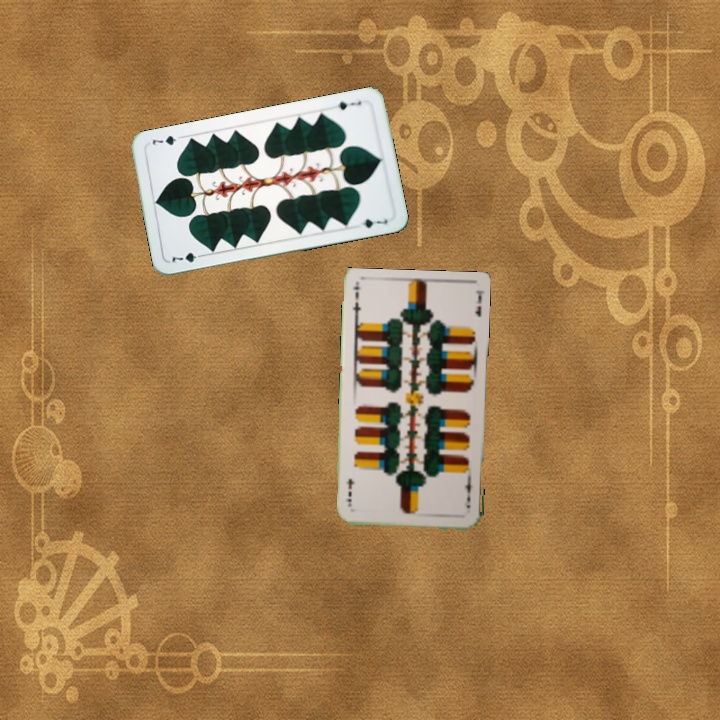E7: (348, 288, 364, 323), (461, 475, 474, 511)
G7: (167, 248, 207, 265), (329, 97, 364, 112)
